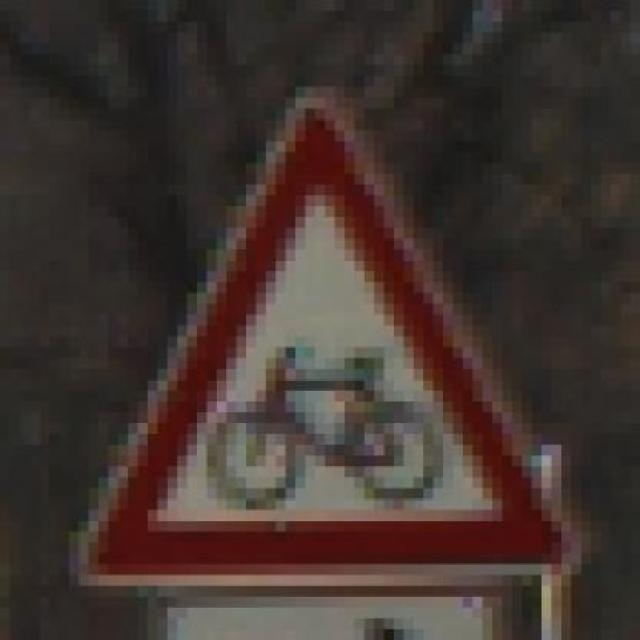CYCLE ROUTE AHEAD WARNING: (59, 86, 601, 586)
